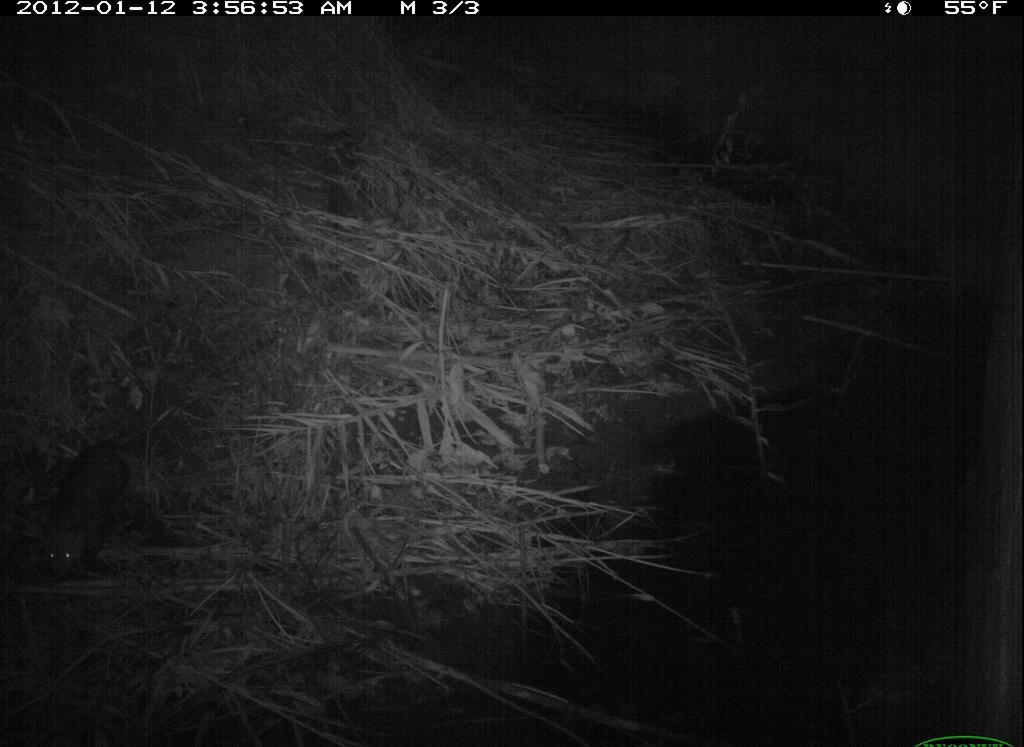opossum: (33, 415, 150, 610)
